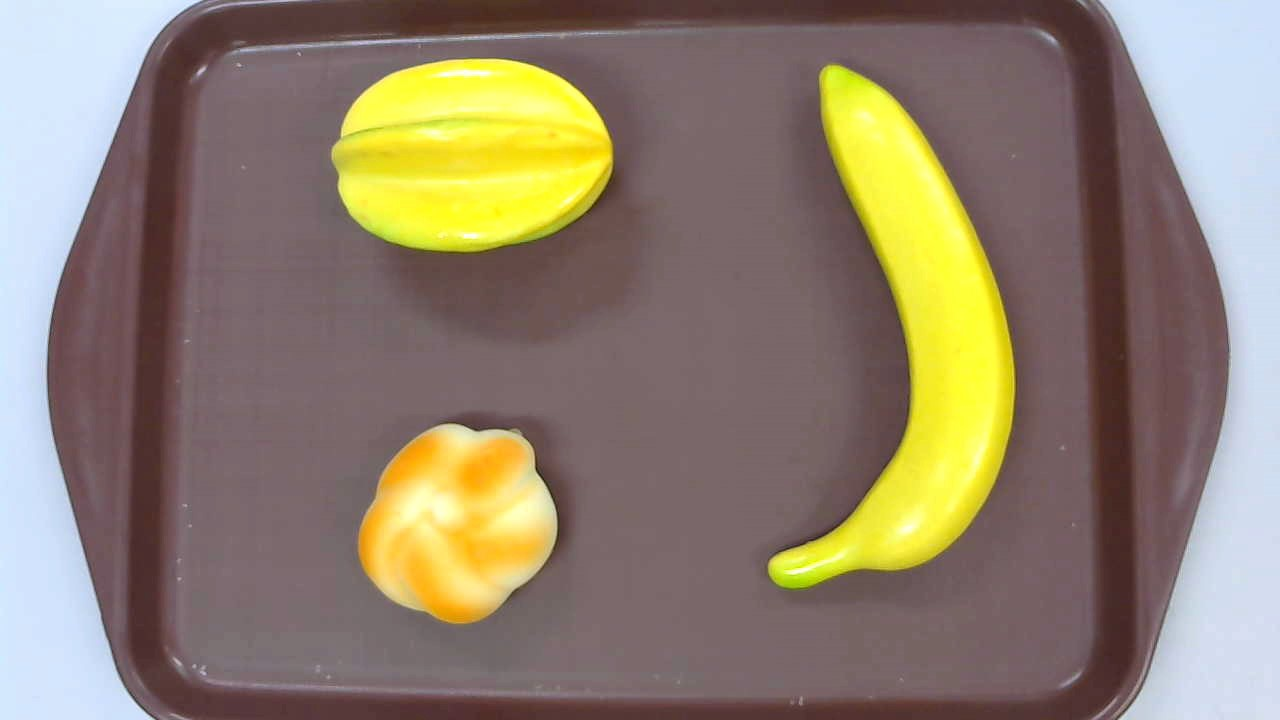banana: (766, 63, 1015, 590)
star fruit: (330, 59, 614, 252)
twist bread: (357, 422, 559, 625)
